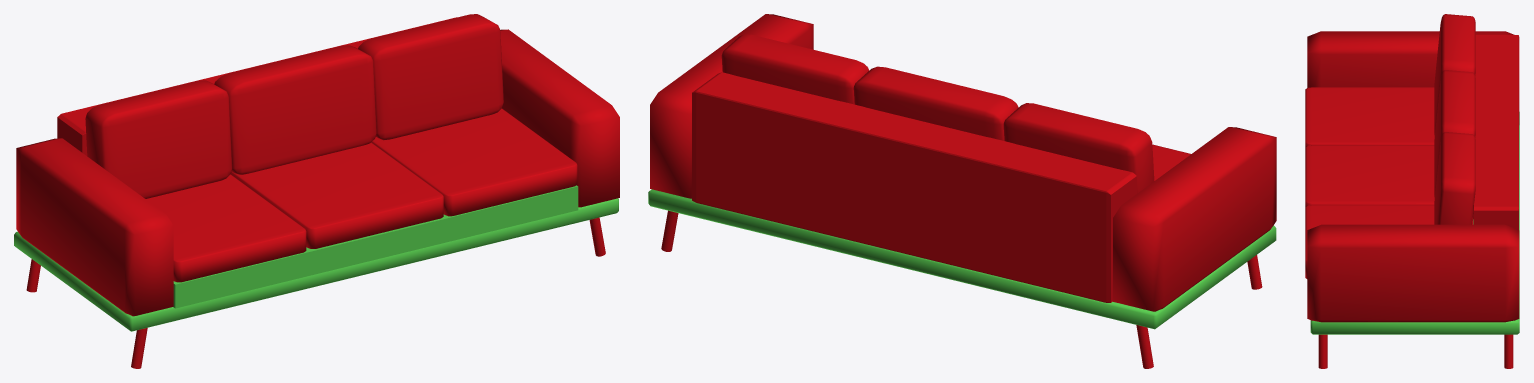
File: sofa.obj
The picture shows the model from 3 angles, left to right: view 1: azimuth 30°, elevation 25°; view 2: azimuth 150°, elevation 25°; view 3: azimuth 270°, elevation 25°; orthographic projection. The views are drawn at different scales.
Parts seen in each view (by area): view 1: Cube.003_Cube.005, Cube, Cube.009_Cube.014, Cube.008_Cube.013, Cube.007_Cube.012, Cube.005_Cube.011, Cube.006_Cube.010, Cube.001, Cube.002_Cube.009, Cube.004, Cylinder; view 2: Cube.004, Cube.003_Cube.005, Cube, Cube.001, Cube.009_Cube.014, Cube.007_Cube.012, Cube.008_Cube.013, Cylinder, Cube.002_Cube.009; view 3: Cube.001, Cube.004, Cube.005_Cube.011, Cube.003_Cube.005, Cube.002_Cube.009, Cube.008_Cube.013, Cube, Cube.006_Cube.010, Cube.009_Cube.014, Cube.007_Cube.012, Cylinder.001.
Boxes of the visible parts, x1=… form: Cube.003_Cube.005: x1=16, y1=138, x2=173, y2=316; Cube: x1=14, y1=185, x2=618, y2=331; Cube.009_Cube.014: x1=214, y1=45, x2=376, y2=174; Cube.008_Cube.013: x1=358, y1=14, x2=503, y2=140; Cube.007_Cube.012: x1=85, y1=80, x2=232, y2=198; Cube.005_Cube.011: x1=231, y1=142, x2=443, y2=248; Cube.006_Cube.010: x1=371, y1=108, x2=577, y2=216; Cube.001: x1=500, y1=29, x2=619, y2=207; Cube.002_Cube.009: x1=146, y1=174, x2=306, y2=282; Cube.004: x1=57, y1=17, x2=456, y2=155; Cylinder: x1=26, y1=259, x2=147, y2=368; Cube.004: x1=692, y1=72, x2=1136, y2=302; Cube.003_Cube.005: x1=1113, y1=127, x2=1276, y2=311; Cube: x1=648, y1=189, x2=1276, y2=329; Cube.001: x1=650, y1=14, x2=813, y2=198; Cube.009_Cube.014: x1=853, y1=66, x2=1018, y2=140; Cube.007_Cube.012: x1=1003, y1=103, x2=1154, y2=193; Cube.008_Cube.013: x1=721, y1=34, x2=869, y2=104; Cylinder: x1=1136, y1=255, x2=1262, y2=368; Cube.002_Cube.009: x1=1152, y1=144, x2=1190, y2=180; Cube.001: x1=1307, y1=224, x2=1519, y2=322; Cube.004: x1=1473, y1=35, x2=1518, y2=229; Cube.005_Cube.011: x1=1305, y1=145, x2=1473, y2=218; Cube.003_Cube.005: x1=1307, y1=31, x2=1519, y2=124; Cube.002_Cube.009: x1=1305, y1=87, x2=1434, y2=146; Cube.008_Cube.013: x1=1434, y1=132, x2=1475, y2=224; Cube: x1=1310, y1=112, x2=1519, y2=334; Cube.006_Cube.010: x1=1305, y1=205, x2=1473, y2=278; Cube.009_Cube.014: x1=1434, y1=70, x2=1475, y2=197; Cube.007_Cube.012: x1=1434, y1=14, x2=1475, y2=135; Cylinder.001: x1=1318, y1=334, x2=1513, y2=368.
Bounding box in the file's own units: 1.96 × 0.7344 × 0.8321.
